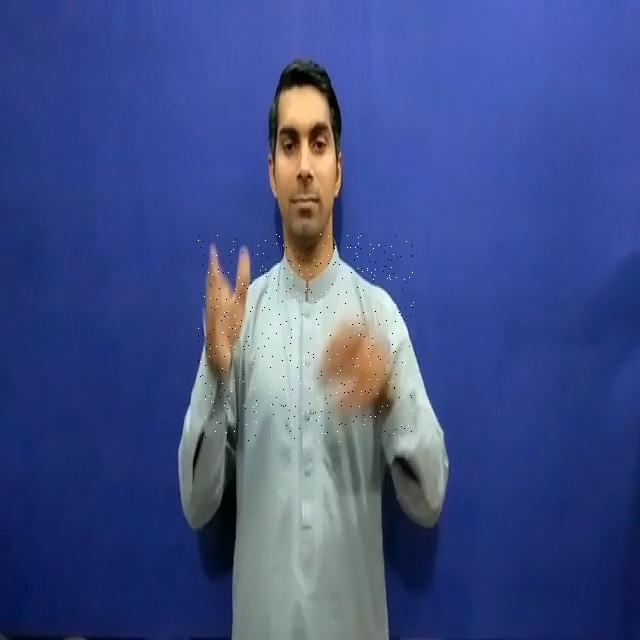manager: (198, 234, 414, 442)
